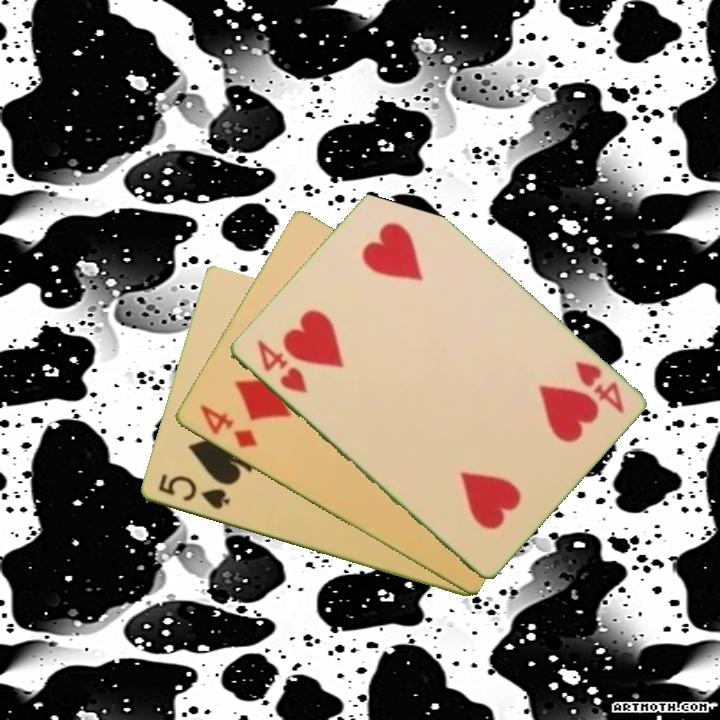4d: (195, 401, 260, 452)
4h: (252, 336, 310, 396), (571, 357, 627, 416)
5s: (154, 470, 233, 513)
